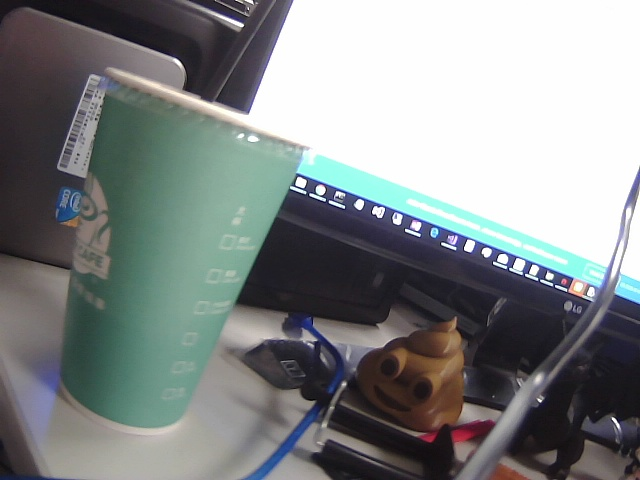beverage: (61, 1, 314, 442)
